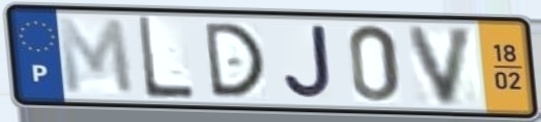0: (345, 22, 404, 106)
D: (200, 20, 268, 100)
J: (280, 23, 334, 102)
L: (133, 15, 197, 103)
M: (54, 15, 138, 98)
V: (403, 23, 479, 109)
